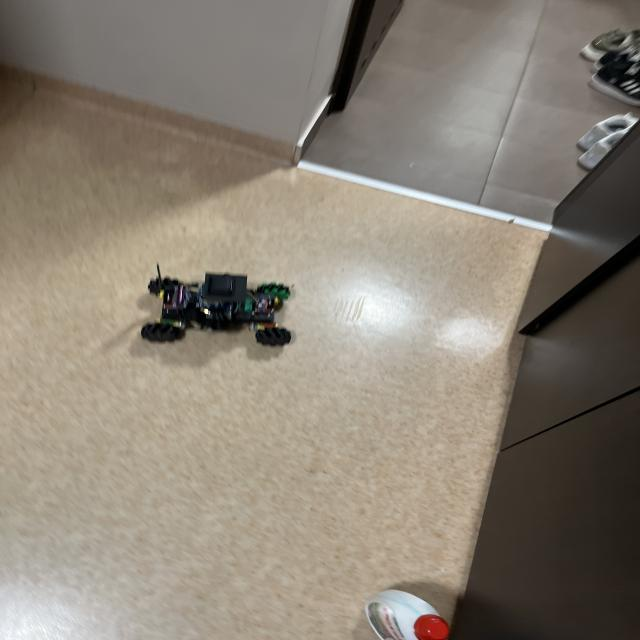robot: (141, 272, 291, 345)
